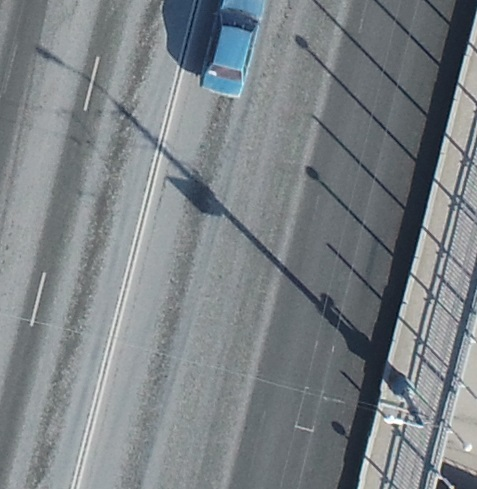opora: (363, 337, 429, 432)
